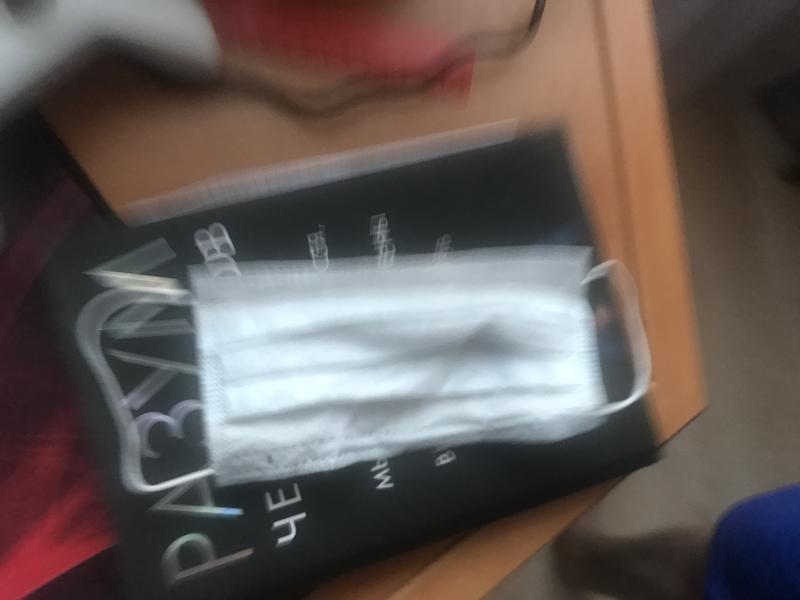medical_mask: (81, 246, 634, 498)
